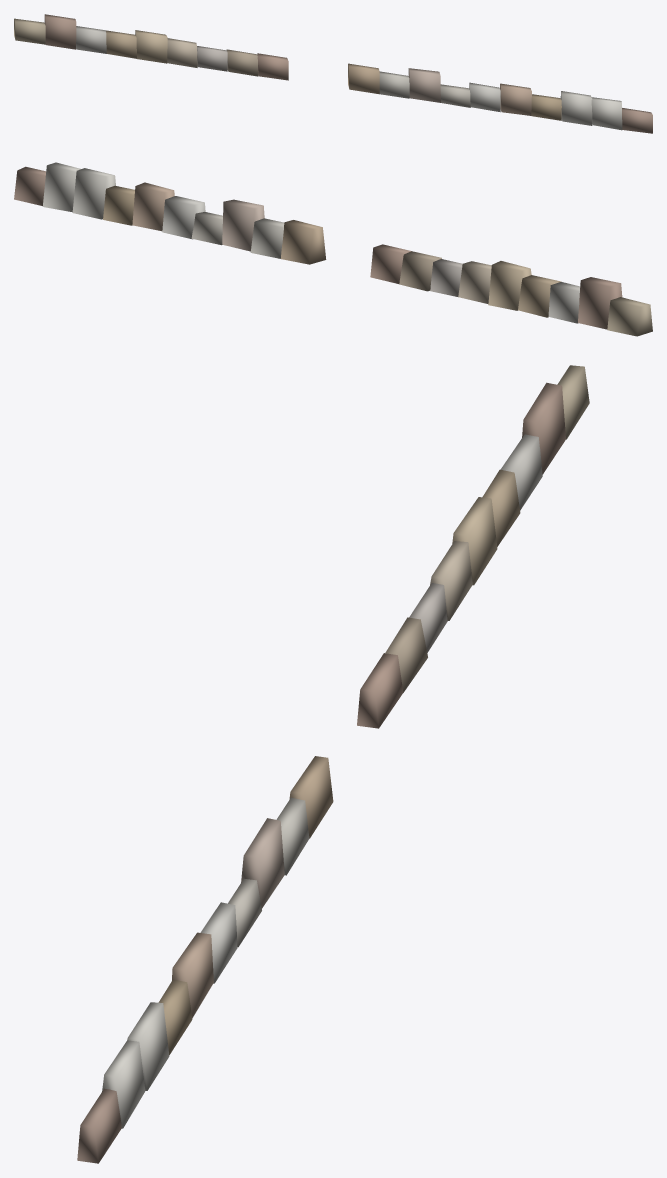
The model's file is farm_-10_2_far.glb.
The picture shows the model from 3 angles, top to bottom: view 1: azimuth 30°, elevation 25°; view 2: azimuth 150°, elevation 25°; view 3: azimuth 270°, elevation 25°; orthographic projection. The views are drawn at different scales.
Visible parts, largest first — view 1: geometry_0; view 2: geometry_0; view 3: geometry_0.
Boxes of the visible parts, box(x1,y1,x2,y2) form: geometry_0: box(14, 14, 652, 133); geometry_0: box(14, 162, 652, 336); geometry_0: box(77, 365, 589, 1163).
Size of the model in its own units: 30.53 by 8.43 by 13.07.
